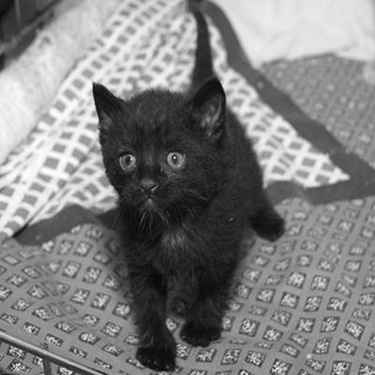cat: (90, 5, 285, 370)
